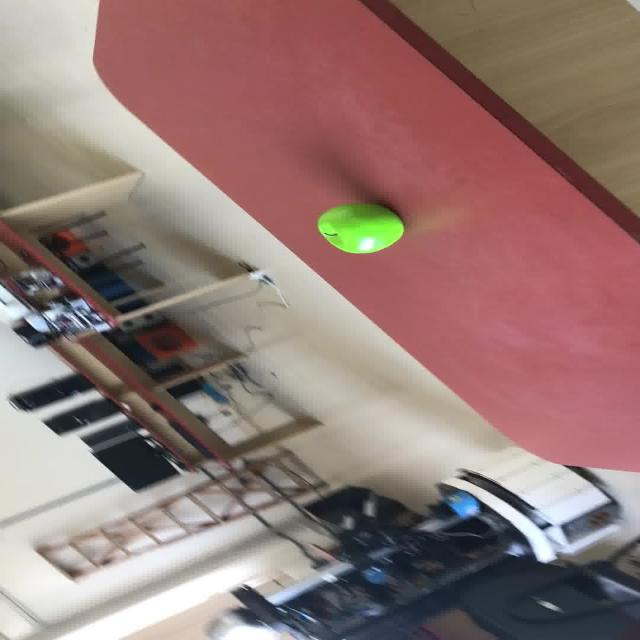apple: (315, 202, 404, 254)
